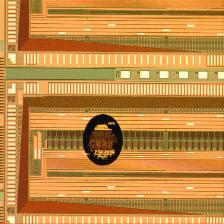PARTICLE: (81, 113, 126, 169)
